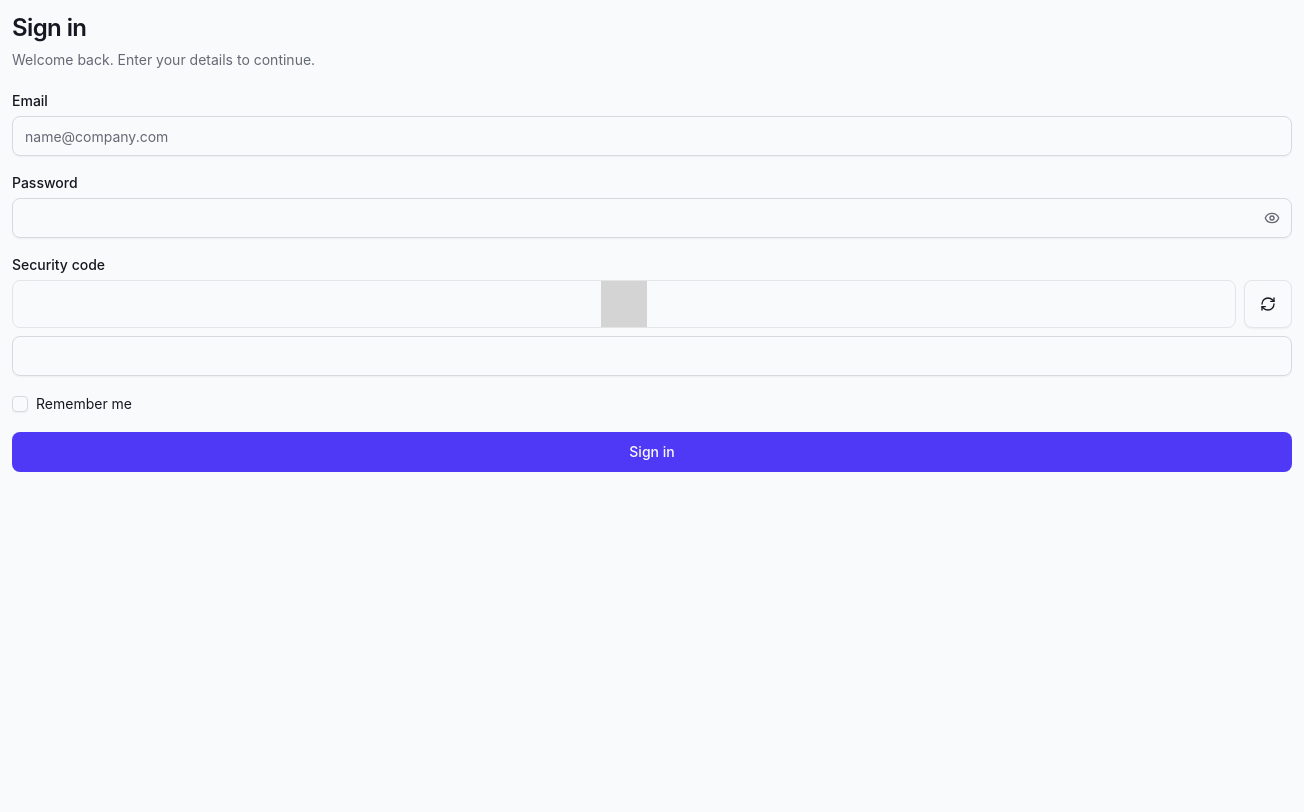
SignInForm › explains what is missing and signs in nobody when submitted empty
Click the button "Sign in" at (652, 452), box [12,432,1292,472]
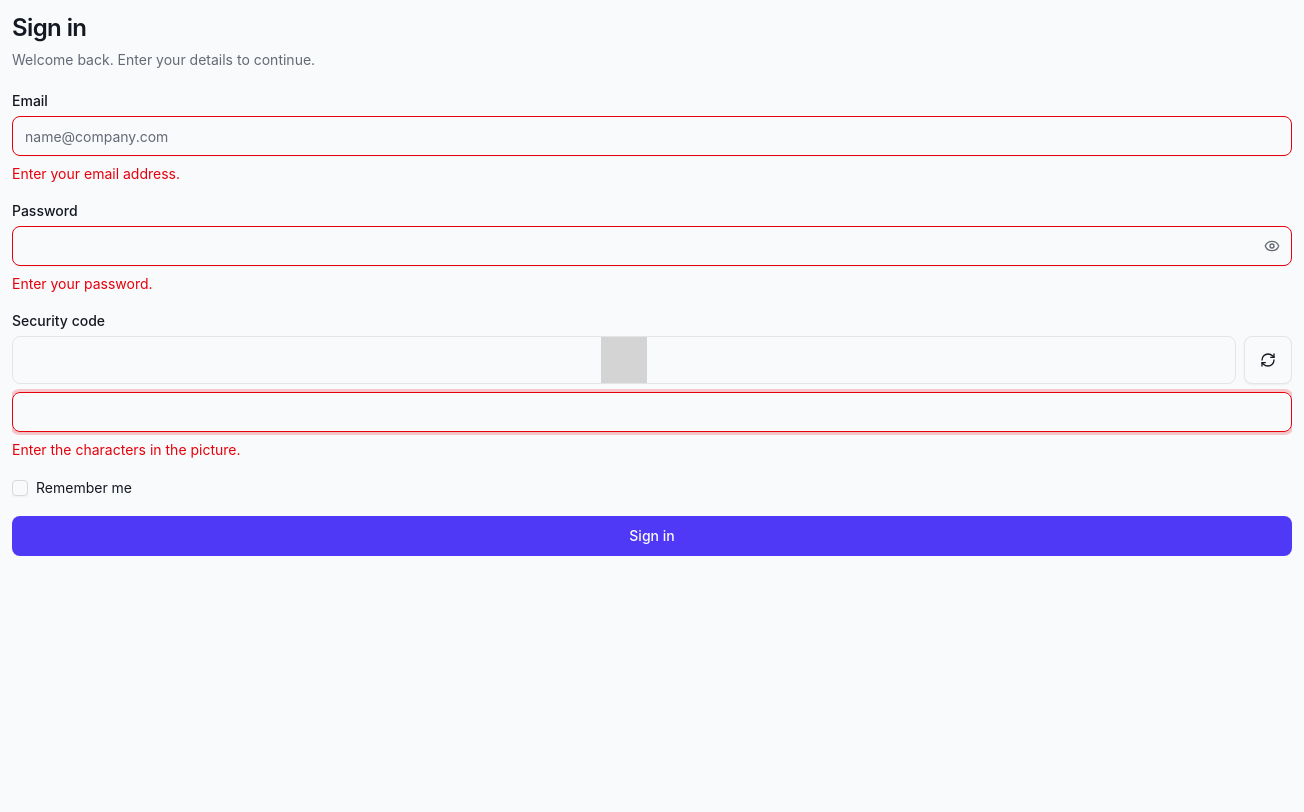
Now the text "Enter your email address." is shown, box [12,165,180,182]
Now the text "Enter your password." is shown, box [12,275,153,292]
Now the text "Enter the characters in the picture." is shown, box [12,441,240,458]
